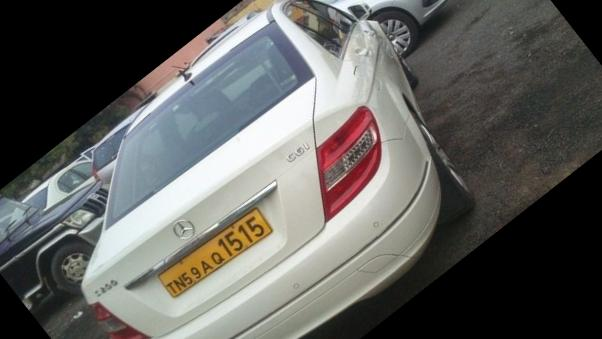plate: (134, 179, 304, 330)
